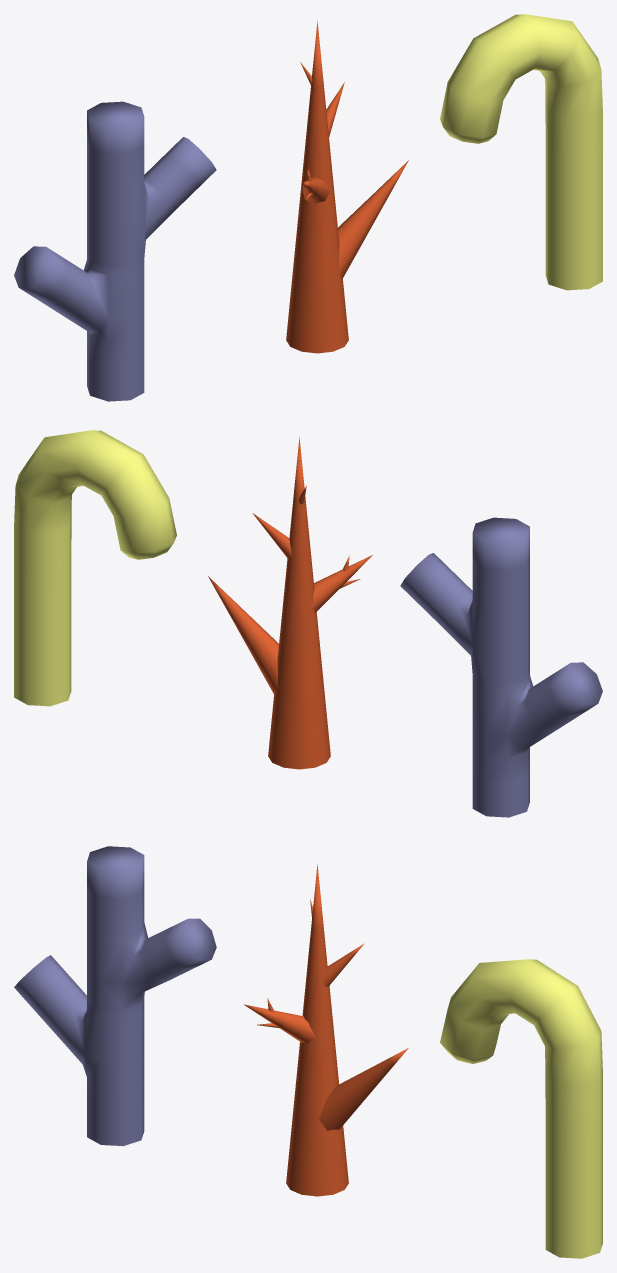
The model's file is Candy_Trees.fbx.
3 renders of one model, top to bottom at view 1: azimuth 30°, elevation 25°; view 2: azimuth 150°, elevation 25°; view 3: azimuth 330°, elevation 25°, orthographic.
Visible parts, largest first — view 1: CylinderTree, StaffStree, Cone001; view 2: CylinderTree, StaffStree, Cone001; view 3: CylinderTree, StaffStree, Cone001.
Boxes of the visible parts, x1,y1,x2,y2 form: CylinderTree: [14, 101, 216, 401]; StaffStree: [440, 14, 602, 290]; Cone001: [286, 20, 408, 353]; CylinderTree: [400, 517, 602, 817]; StaffStree: [14, 430, 176, 706]; Cone001: [208, 436, 372, 769]; CylinderTree: [14, 846, 216, 1146]; StaffStree: [440, 959, 602, 1258]; Cone001: [243, 863, 408, 1196].
Bounding box in the file's own units: 214 × 113 × 29.34.
